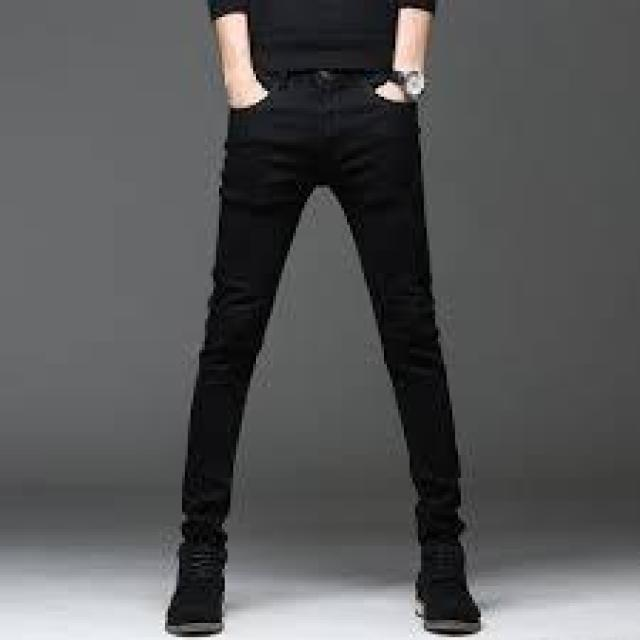pants: (178, 63, 468, 543)
